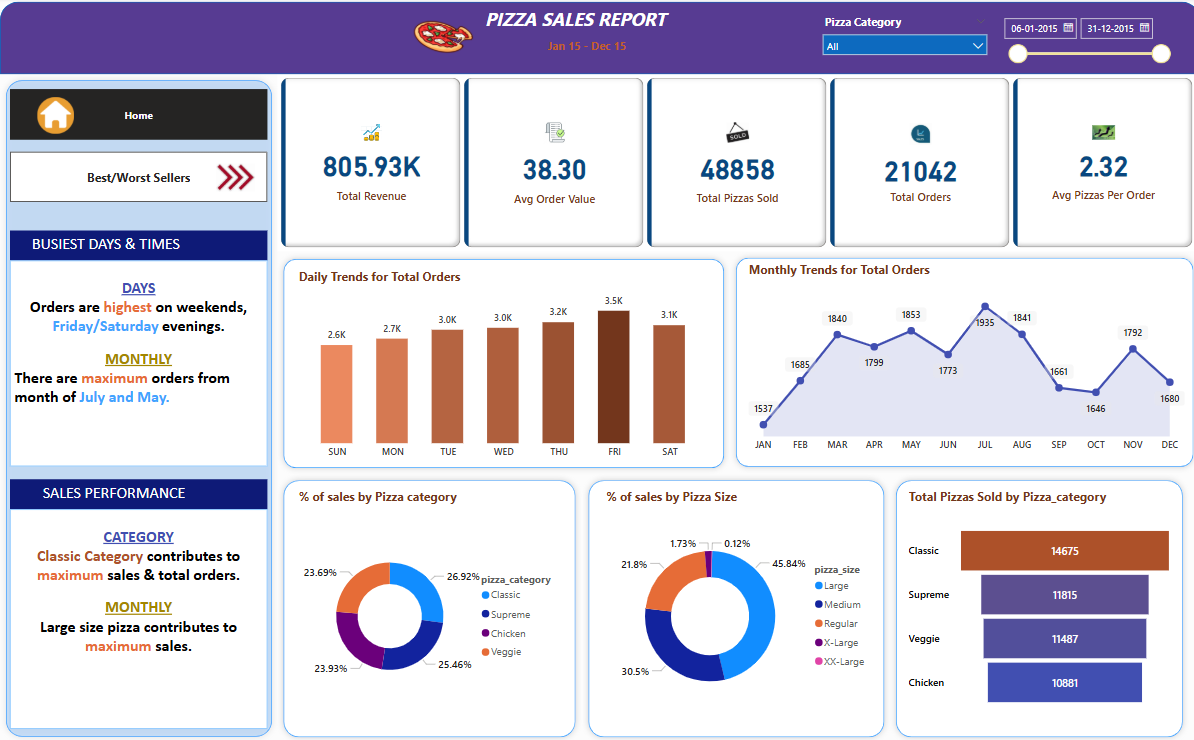

What the dashboard file says about the page in this screenshot:
{"tool":"powerbi","page":{"name":"Home","canvas":[1600,1000],"ordinal":0},"visuals":[{"type":"shape","box":[0,108.6,370.7,891.4],"z":0},{"type":"cardVisual","fields":{"Data":["pizza_sales Data.Total Revenue","pizza_sales Data.Avg Order Value","pizza_sales Data.Total Pizzas Sold","pizza_sales Data.Total Orders","pizza_sales Data.Avg Pizzas Per Order"]},"box":[370.7,108.6,1229.3,236.2],"z":1000},{"type":"shape","box":[0,11.7,1600,96.7],"z":2000},{"type":"image","box":[545.2,22.6,91.9,69.4],"z":3000},{"type":"shape","box":[370.7,346.6,603.4,294.8],"z":4000},{"type":"columnChart","title":"Daily Trends for Total Orders","fields":{"Category":["pizza_sales Data.Order Day"],"Y":["pizza_sales Data.Total Orders"]},"box":[393.1,367.2,556.9,263.8],"z":5000},{"type":"shape","box":[974.1,344.8,625.9,294.8],"z":6000},{"type":"areaChart","title":"Monthly Trends for Total Orders","fields":{"Category":["pizza_sales Data.Order Month"],"Y":["pizza_sales Data.Total Orders"]},"box":[993.1,356.9,591.4,263.8],"z":7000},{"type":"shape","box":[370.7,641.4,405.2,358.6],"z":8000},{"type":"shape","box":[775.9,641.4,410.3,358.6],"z":9000},{"type":"shape","box":[1186.7,641.7,413.3,358.3],"z":10000},{"type":"donutChart","title":"% of sales by Pizza category","fields":{"Category":["pizza_sales Data.pizza_category"],"Y":["pizza_sales Data.Total Revenue"]},"box":[393.1,660.3,362.1,320.7],"z":11000},{"type":"donutChart","title":"% of sales by Pizza Size","fields":{"Y":["pizza_sales Data.Total Revenue"],"Category":["pizza_sales Data.pizza_size"]},"box":[803.4,660.3,367.2,320.7],"z":12000},{"type":"funnel","title":"Total Pizzas Sold by Pizza_category","fields":{"Category":["pizza_sales Data.pizza_category"],"Y":["pizza_sales Data.Total Pizzas Sold"]},"box":[1206.7,660,378.3,321.7],"z":13000},{"type":"textbox","box":[13.8,317.2,343.1,39.7],"z":14000},{"type":"textbox","box":[13.8,356.9,343.1,274.1],"z":15000},{"type":"textbox","box":[13.8,648.3,343.1,39.7],"z":16000},{"type":"textbox","box":[13.8,687.9,343.1,293.1],"z":17000},{"type":"slicer","fields":{"Values":["pizza_sales Data.pizza_category"]},"box":[1086.2,24.1,239.7,63.8],"z":18000},{"type":"slicer","fields":{"Values":["pizza_sales Data.order_date"]},"box":[1325.9,24.1,243.1,74.1],"z":19000},{"type":"pageNavigator","box":[13.8,212.1,343.1,67.2],"z":20000},{"type":"textbox","box":[641.9,12.9,266.1,43.5],"z":21000},{"type":"textbox","box":[724.2,54.8,127.4,32.3],"z":22000},{"type":"pageNavigator","box":[13.8,127.6,343.1,67.2],"z":23000},{"type":"image","box":[44.8,131,58.6,63.8],"z":24000},{"type":"image","box":[282.8,215.5,62.1,62.1],"z":25000}]}

Visuals, with their boxes in screenshot pixels (x1, y1, x2, y2), scaled from the page's 1600x1000 canvas onto the 1194x740 screenshot:
shape: (x1=0, y1=80, x2=277, y2=739)
cardVisual - pizza_sales Data.Total Revenue x pizza_sales Data.Avg Order Value: (x1=277, y1=80, x2=1193, y2=255)
shape: (x1=0, y1=9, x2=1193, y2=80)
image: (x1=407, y1=17, x2=475, y2=68)
shape: (x1=277, y1=256, x2=727, y2=475)
"Daily Trends for Total Orders" columnChart: (x1=293, y1=272, x2=709, y2=467)
shape: (x1=727, y1=255, x2=1193, y2=473)
"Monthly Trends for Total Orders" areaChart: (x1=741, y1=264, x2=1182, y2=459)
shape: (x1=277, y1=475, x2=579, y2=739)
shape: (x1=579, y1=475, x2=885, y2=739)
shape: (x1=886, y1=475, x2=1193, y2=739)
"% of sales by Pizza category" donutChart: (x1=293, y1=489, x2=564, y2=726)
"% of sales by Pizza Size" donutChart: (x1=600, y1=489, x2=874, y2=726)
"Total Pizzas Sold by Pizza_category" funnel: (x1=900, y1=488, x2=1183, y2=726)
textbox: (x1=10, y1=235, x2=266, y2=264)
textbox: (x1=10, y1=264, x2=266, y2=467)
textbox: (x1=10, y1=480, x2=266, y2=509)
textbox: (x1=10, y1=509, x2=266, y2=726)
slicer - pizza_sales Data.pizza_category: (x1=811, y1=18, x2=989, y2=65)
slicer - pizza_sales Data.order_date: (x1=989, y1=18, x2=1171, y2=73)
pageNavigator: (x1=10, y1=157, x2=266, y2=207)
textbox: (x1=479, y1=10, x2=678, y2=42)
textbox: (x1=540, y1=41, x2=636, y2=64)
pageNavigator: (x1=10, y1=94, x2=266, y2=144)
image: (x1=33, y1=97, x2=77, y2=144)
image: (x1=211, y1=159, x2=257, y2=205)
